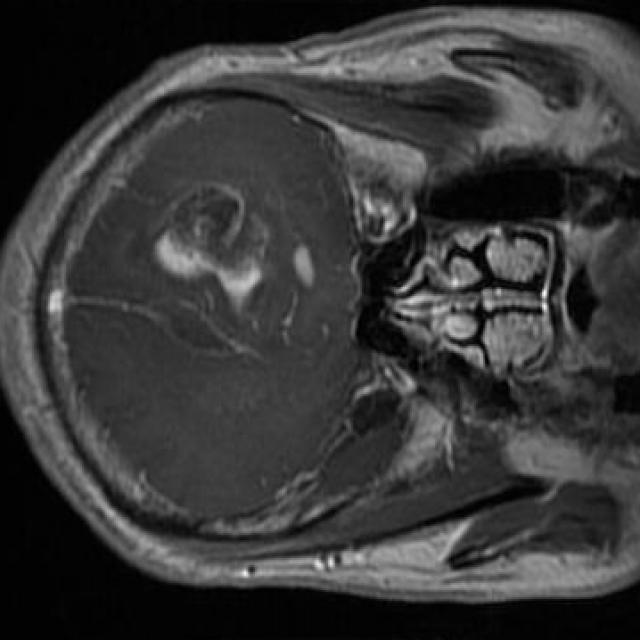glioma: (152, 184, 271, 314)
